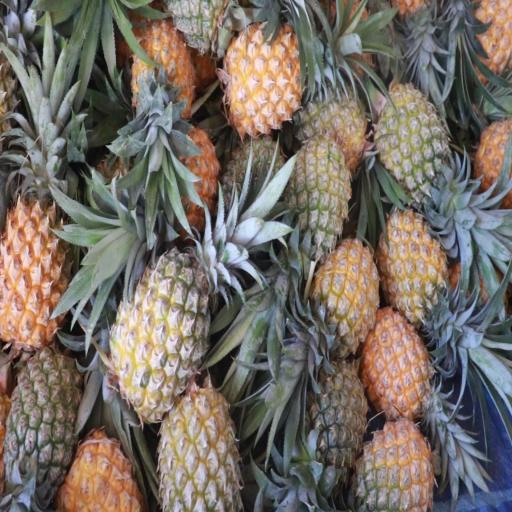------------------------------: (110, 256, 212, 415), (158, 378, 240, 512)
Pineapple - v8 v1: (0, 191, 75, 342), (223, 25, 304, 131), (377, 207, 451, 321), (365, 310, 434, 422), (130, 20, 195, 124), (316, 243, 376, 350), (67, 428, 143, 512), (168, 125, 218, 220)
